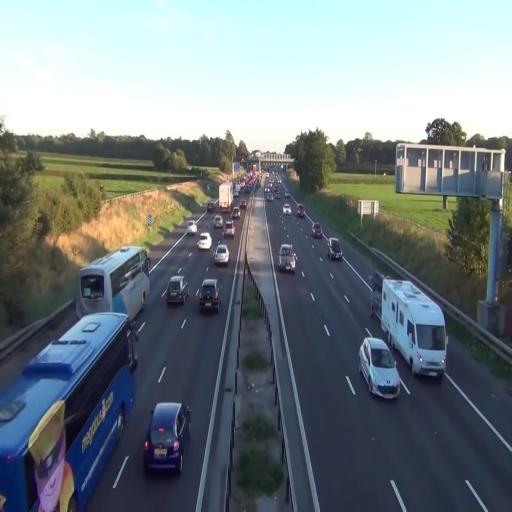vehicle: (0, 309, 138, 509), (380, 276, 448, 378), (75, 246, 150, 328), (143, 400, 192, 476), (358, 336, 400, 401), (196, 277, 221, 313), (166, 272, 188, 306), (278, 243, 296, 273), (327, 236, 344, 262), (218, 180, 232, 211), (213, 242, 229, 265), (198, 233, 212, 251), (186, 220, 198, 238), (312, 222, 322, 238)
